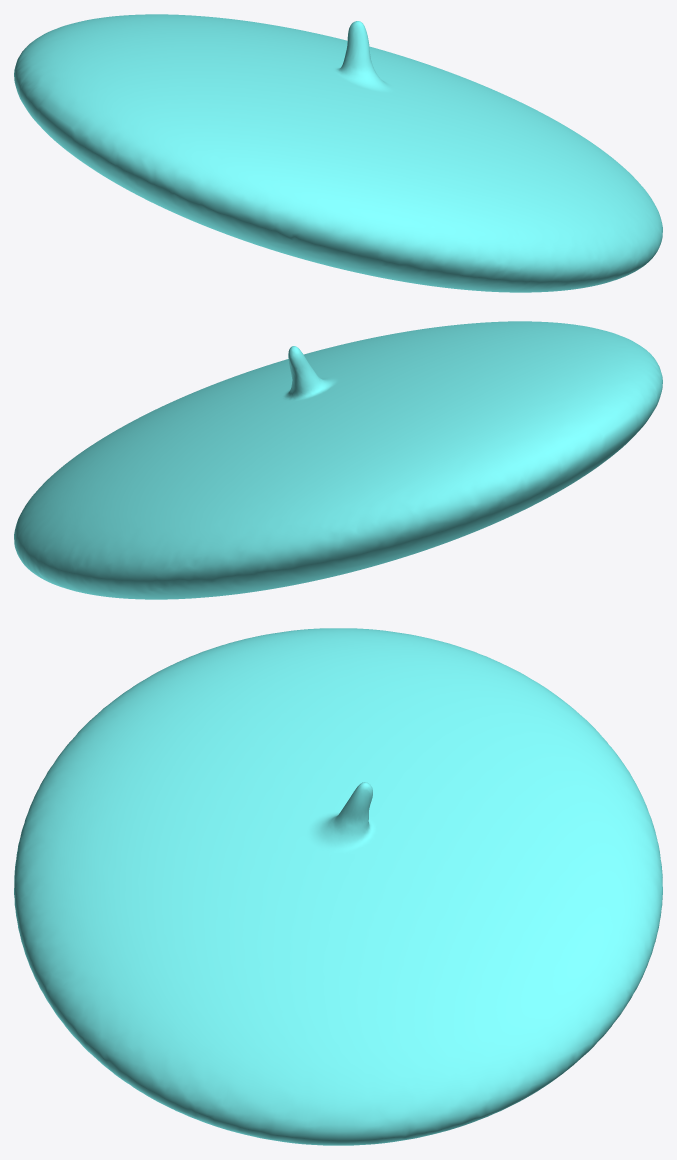
File: Hat.fbx
3 renders of one model, top to bottom at view 1: azimuth 30°, elevation 25°; view 2: azimuth 150°, elevation 25°; view 3: azimuth 270°, elevation 25°, orthographic. The views are drawn at different scales.
Parts seen in each view (by area): view 1: PM3D_Sphere3D1; view 2: PM3D_Sphere3D1; view 3: PM3D_Sphere3D1.
Part boxes in pixels (box(x1,y1,x2,y2)): PM3D_Sphere3D1: box(14, 14, 662, 292); PM3D_Sphere3D1: box(14, 321, 662, 599); PM3D_Sphere3D1: box(14, 628, 662, 1145).
Bounding box in the file's own units: 1.7 × 0.6991 × 1.6.
